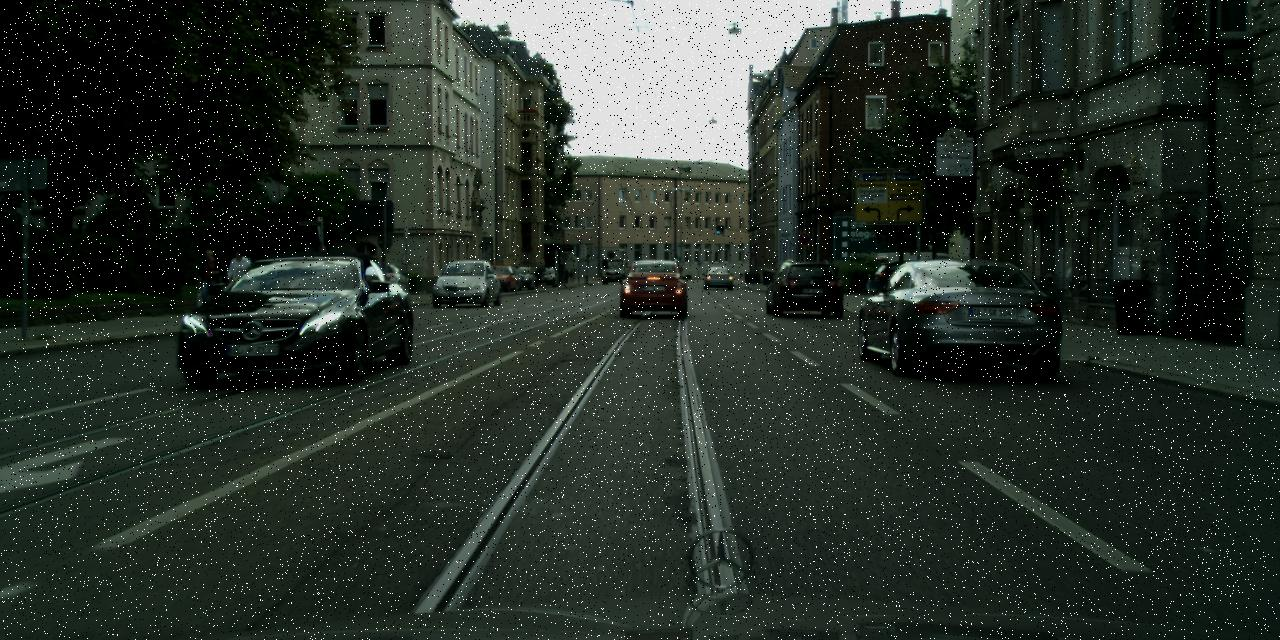ped: (226, 248, 252, 313), (198, 249, 223, 312), (563, 268, 569, 282), (569, 268, 574, 282)
